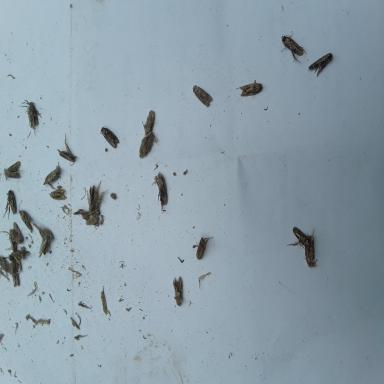pbw: (280, 30, 307, 63), (18, 99, 42, 136), (87, 180, 108, 216), (56, 132, 77, 165), (152, 170, 168, 212), (308, 52, 333, 76), (286, 226, 312, 249), (304, 228, 318, 268), (7, 249, 31, 272), (139, 132, 157, 158), (192, 85, 212, 108), (43, 161, 62, 185), (100, 124, 119, 148), (196, 235, 213, 260), (171, 274, 184, 306), (236, 80, 262, 96), (0, 228, 18, 251), (3, 190, 16, 221), (3, 160, 23, 180), (18, 208, 34, 233), (0, 253, 13, 280), (142, 110, 155, 136), (48, 184, 66, 200), (9, 262, 20, 286), (38, 235, 48, 258), (13, 222, 22, 243)
